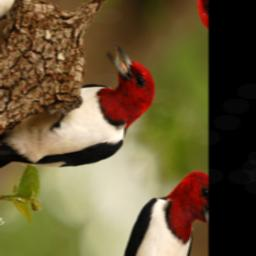Woodpecker: (0, 17, 168, 243)
